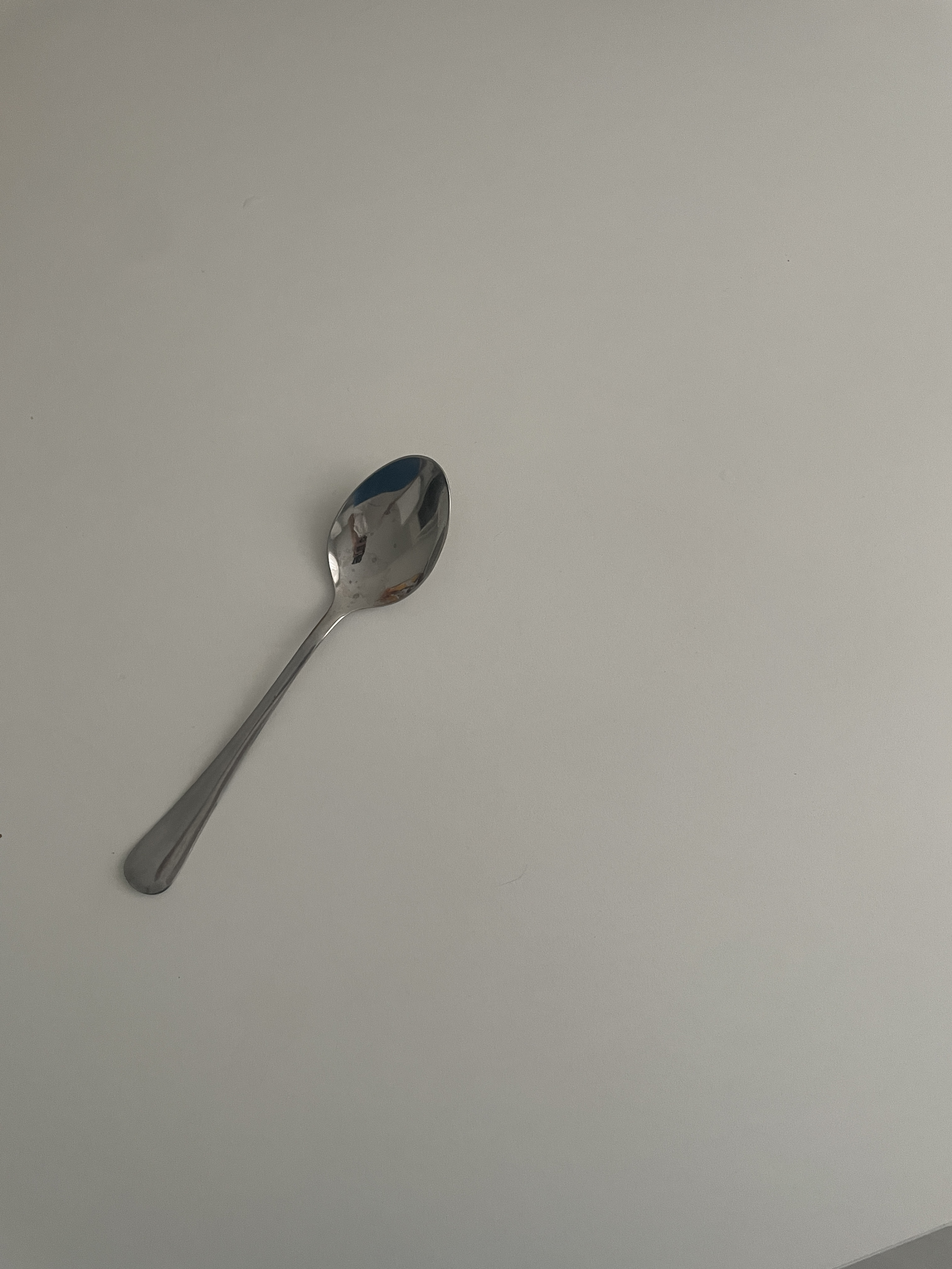spoon: (125, 454, 453, 897)
